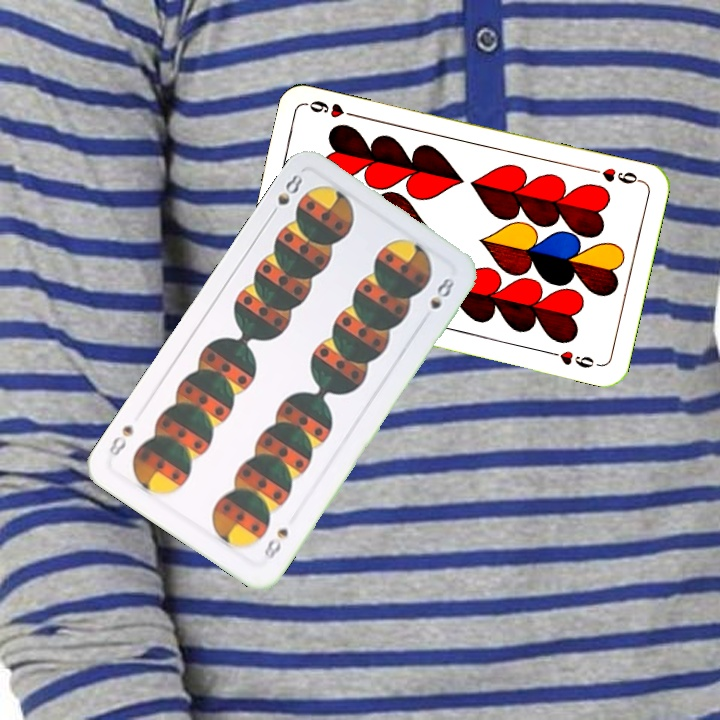H9: (586, 164, 645, 187)
S8: (265, 170, 306, 221), (259, 524, 291, 563)
